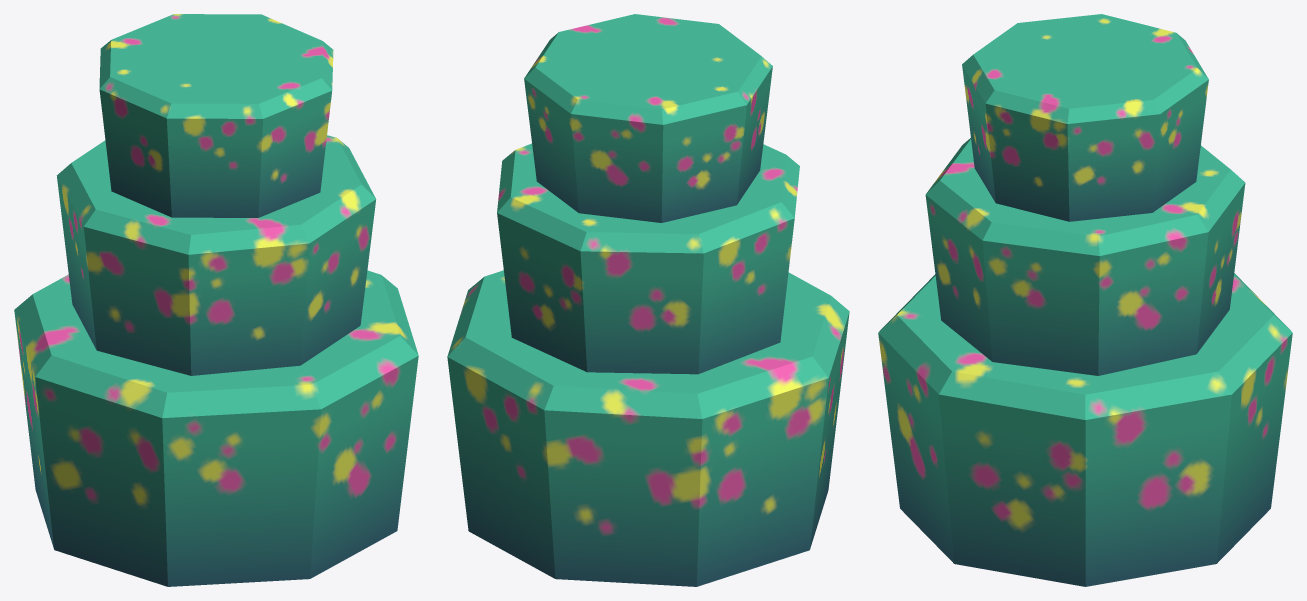
The model's file is Plant001.fbx.
3 views of the same model, side by side, from view 1: azimuth 30°, elevation 25°; view 2: azimuth 150°, elevation 25°; view 3: azimuth 270°, elevation 25° (orthographic).
Visible parts, largest first — view 1: plant3; view 2: plant3; view 3: plant3.
Boxes of the visible parts, box(x1,y1,x2,y2) form: plant3: box(14, 14, 418, 586); plant3: box(447, 14, 849, 586); plant3: box(878, 14, 1292, 586).
Bounding box in the file's own units: 0.6435 × 0.7656 × 0.6435.
Materials: 1 (1 with a texture image).
